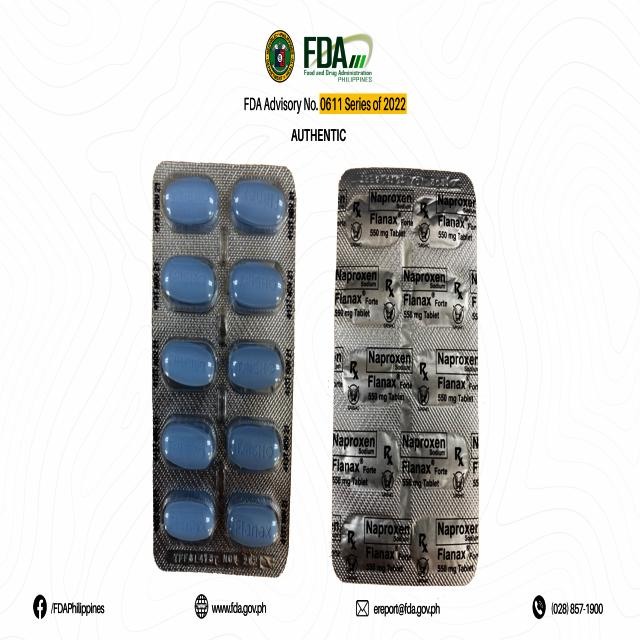authentic: (334, 164, 478, 590), (153, 152, 294, 584)
